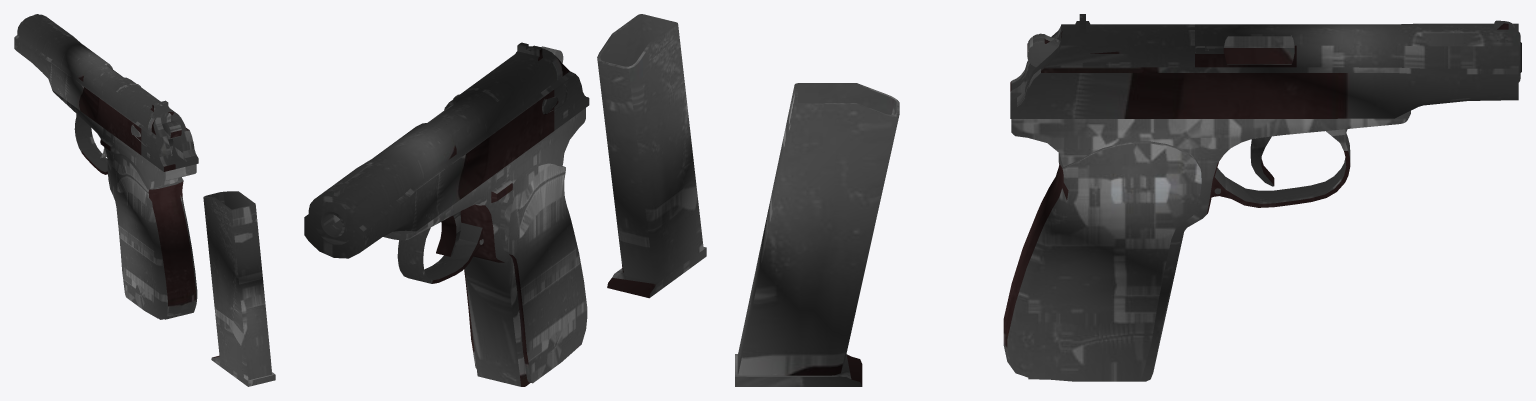
The model's file is makarov.glb.
3 renders of one model, left to right at view 1: azimuth 30°, elevation 25°; view 2: azimuth 150°, elevation 25°; view 3: azimuth 270°, elevation 25°, orthographic. The views are drawn at different scales.
Parts seen in each view (by area): view 1: Body, Slide, Magazine, Hammer; view 2: Body, Slide, Magazine, Trigger, Barrel; view 3: Body, Slide, Magazine, Barrel, Hammer, Trigger.
Part boxes in pixels (left/top/right/bottom): Body: left=52, top=90, right=197, bottom=319; Slide: left=14, top=14, right=198, bottom=171; Magazine: left=203, top=191, right=275, bottom=386; Hammer: left=162, top=121, right=181, bottom=153; Body: left=383, top=108, right=587, bottom=386; Slide: left=304, top=42, right=589, bottom=258; Magazine: left=597, top=14, right=706, bottom=298; Trigger: left=436, top=211, right=460, bottom=256; Barrel: left=321, top=105, right=452, bottom=237; Body: left=1003, top=110, right=1410, bottom=381; Slide: left=1010, top=14, right=1520, bottom=118; Magazine: left=735, top=83, right=899, bottom=386; Barrel: left=1223, top=36, right=1521, bottom=72; Hammer: left=1027, top=33, right=1060, bottom=67; Trigger: left=1250, top=136, right=1274, bottom=186.
Bounding box in the file's own units: 0.0257 × 0.1276 × 0.2557.
1 material, 1 textured.
